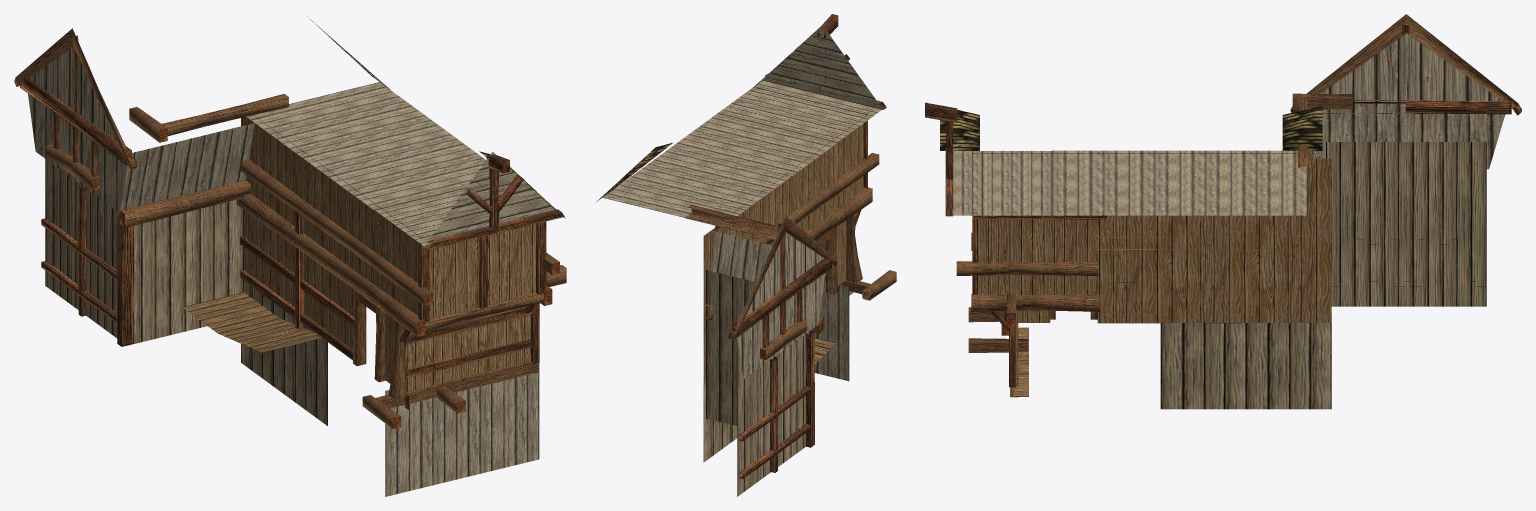
File: LAKETOWN_EXTERIOR_PS_LT_CORNERHOUSE77__GX.fbx
3 views of the same model, side by side, from view 1: azimuth 30°, elevation 25°; view 2: azimuth 150°, elevation 25°; view 3: azimuth 270°, elevation 25° (orthographic). The views are drawn at different scales.
Parts seen in each view (by area): view 1: LAKETOWN_EXTERIOR_PS_LT_CORNERHOUSE77__GX; view 2: LAKETOWN_EXTERIOR_PS_LT_CORNERHOUSE77__GX; view 3: LAKETOWN_EXTERIOR_PS_LT_CORNERHOUSE77__GX.
Part boxes in pixels (x1,y1,x2,y2): LAKETOWN_EXTERIOR_PS_LT_CORNERHOUSE77__GX: (14,16,566,496); LAKETOWN_EXTERIOR_PS_LT_CORNERHOUSE77__GX: (596,14,896,496); LAKETOWN_EXTERIOR_PS_LT_CORNERHOUSE77__GX: (925,14,1521,409).
Size of the model in its own units: 107999 by 126165 by 194032.
Materials: 11 (11 with a texture image).
